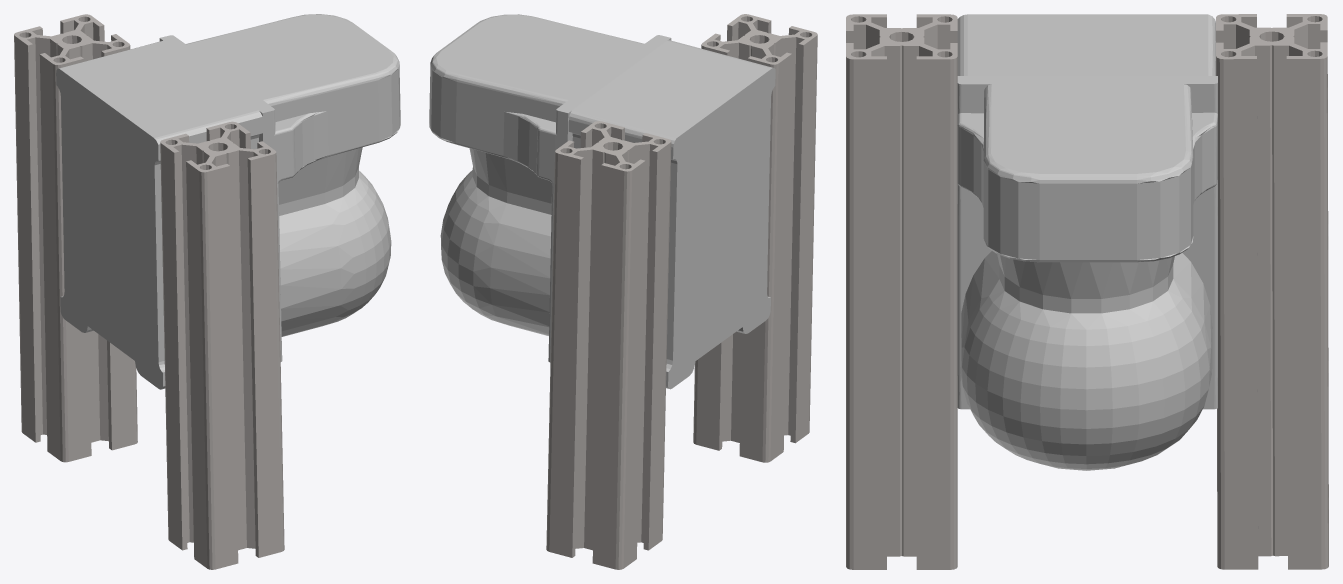
The model's file is yvt-x002.dae.
3 views of the same model, side by side, from view 1: azimuth 30°, elevation 25°; view 2: azimuth 150°, elevation 25°; view 3: azimuth 270°, elevation 25° (orthographic). The views are drawn at different scales.
Parts seen in each view (by area): view 1: Yvt-X002-Bar; view 2: Yvt-X002-Bar; view 3: Yvt-X002-Bar.
Boxes of the visible parts, bbox=[...] form: Yvt-X002-Bar: bbox=[14, 14, 400, 569]; Yvt-X002-Bar: bbox=[429, 14, 817, 569]; Yvt-X002-Bar: bbox=[846, 14, 1328, 569].
Size of the model in its own units: 0.1064 by 0.1298 by 0.1508.
